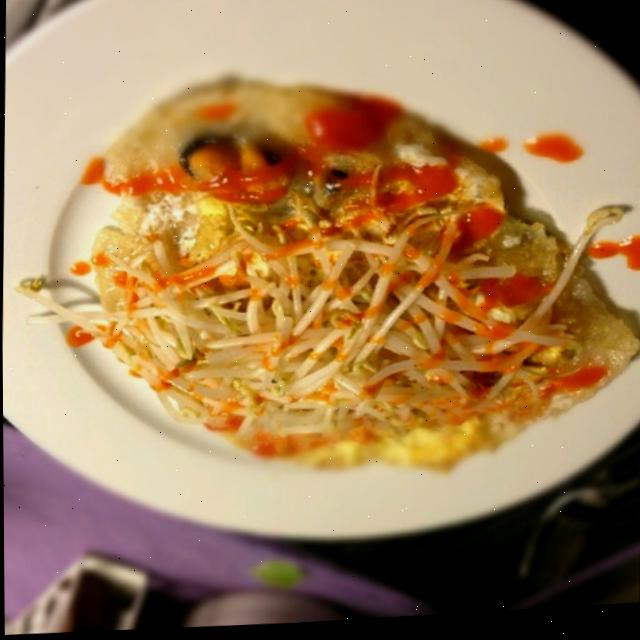炸货点心: (11, 0, 640, 586)
蛋糕甜品: (11, 0, 640, 586)
